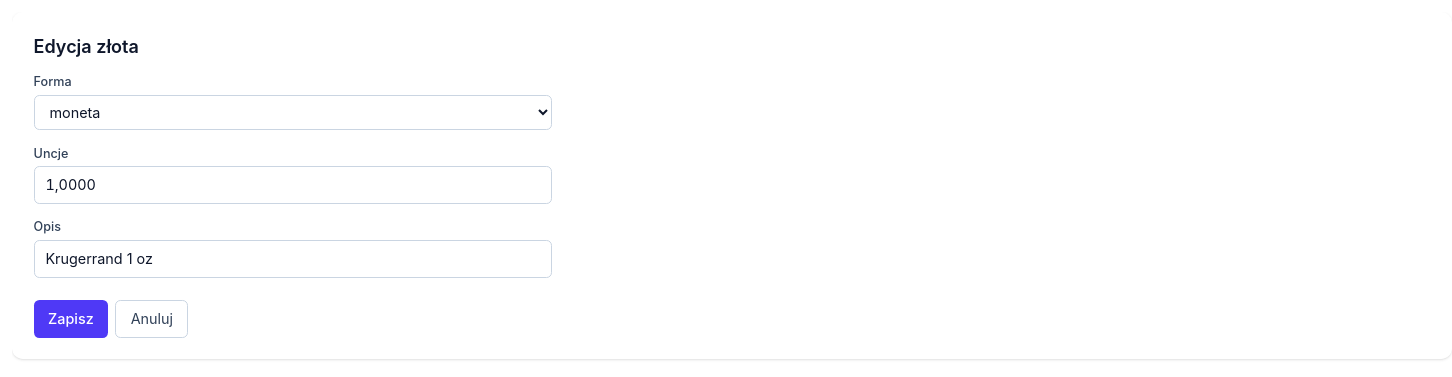
EditGoldAssetPage › saves the changes and goes back to the list
The image size is (1452, 377).
Select "sztabka" in the dropdown labelled "Forma" at coordinates (293, 112), box 34,95 -> 552,130
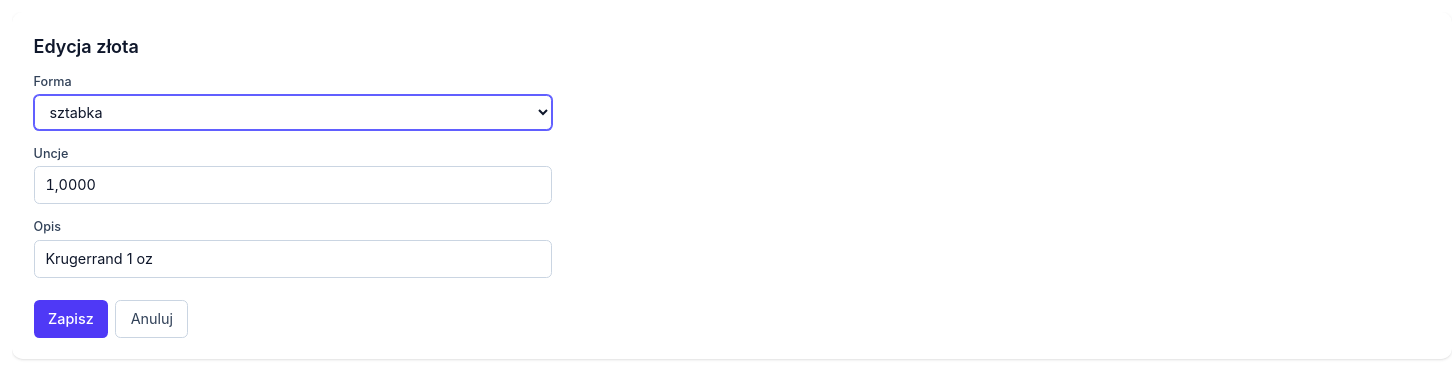
Type ", 2020" into the field labelled "Opis" at coordinates (293, 259), box 34,240 -> 552,278
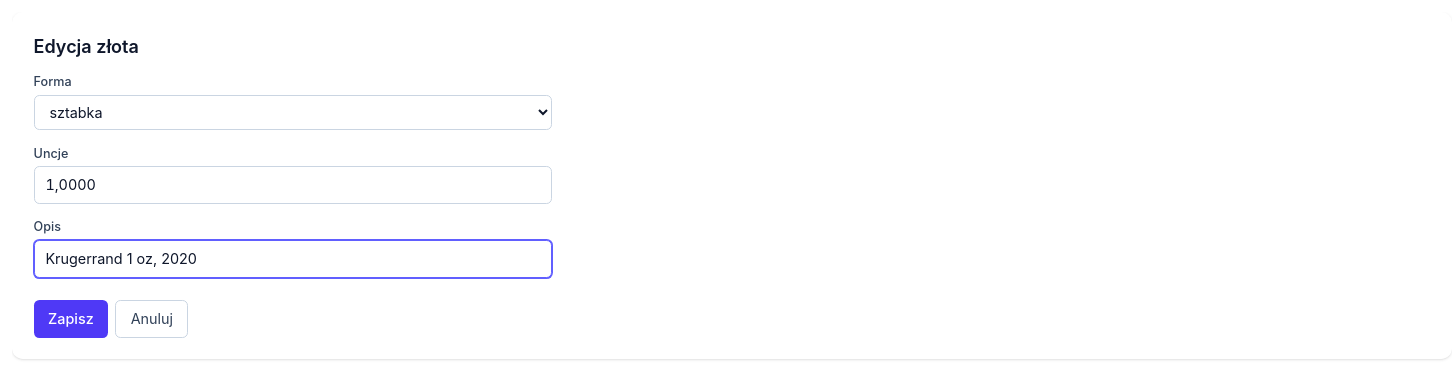
Click the button "Zapisz" at coordinates (71, 318), box 34,300 -> 108,338
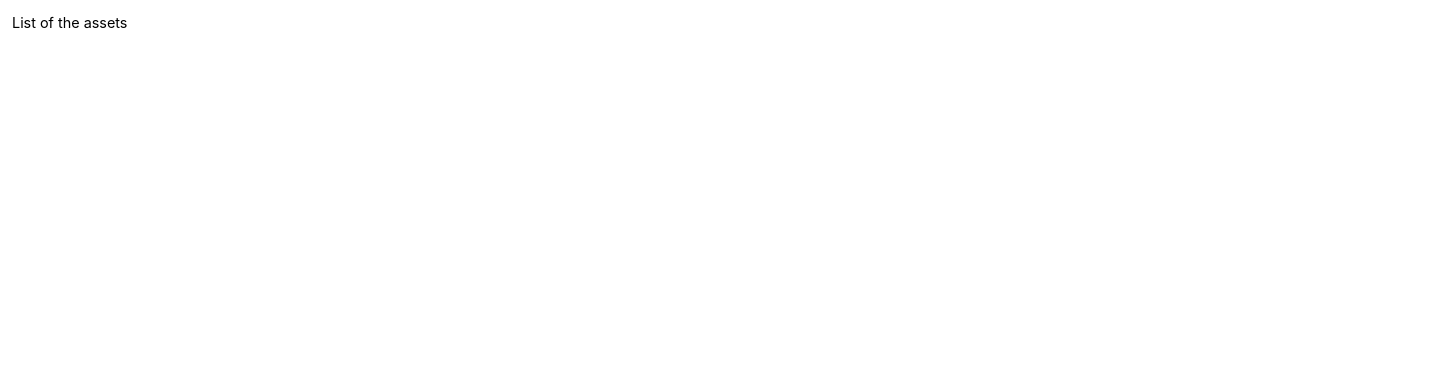
Result: the text "List of the assets" is shown at 12,14 -> 128,31
